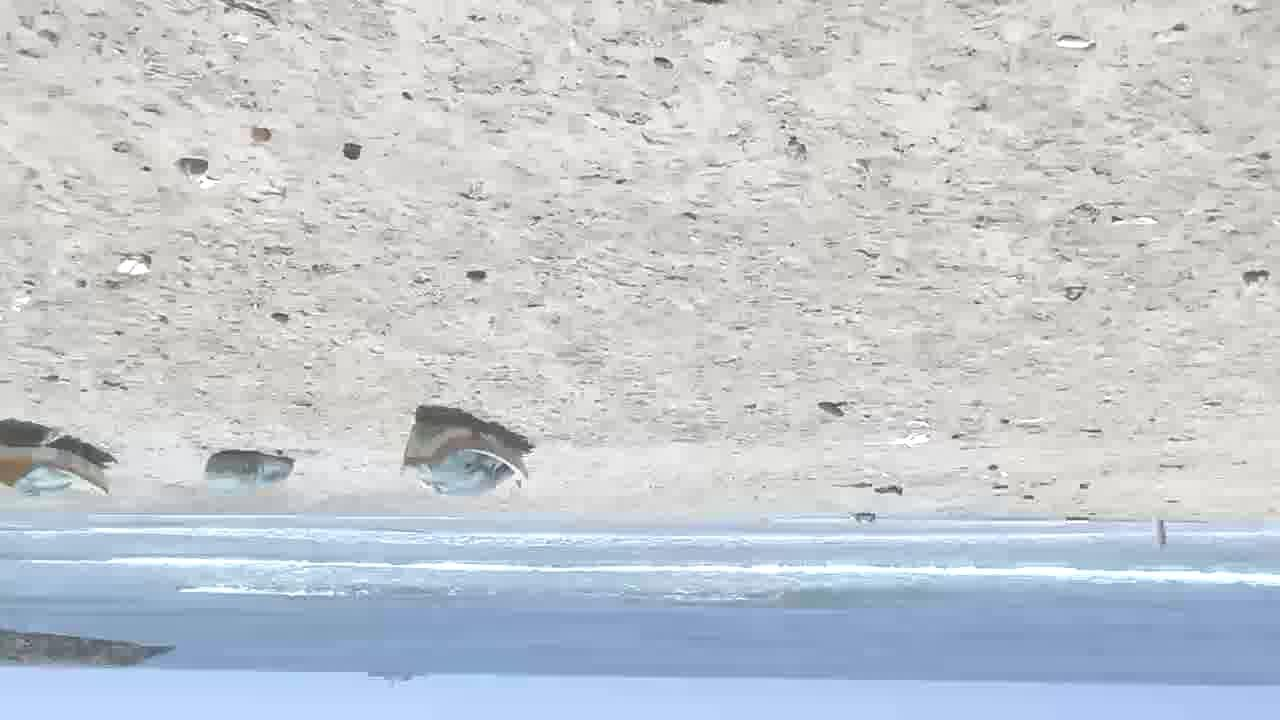large collection of objects: (401, 411, 528, 503), (1, 429, 110, 501)
obj: (208, 452, 300, 496), (892, 418, 945, 446), (116, 248, 156, 274), (1234, 268, 1270, 296), (175, 158, 212, 181), (1150, 512, 1168, 544), (819, 400, 846, 420), (462, 268, 486, 286), (1058, 35, 1094, 47), (870, 483, 901, 496), (1110, 216, 1160, 222), (343, 145, 362, 159), (272, 314, 285, 328)
sand/background: (1, 508, 1279, 719)
